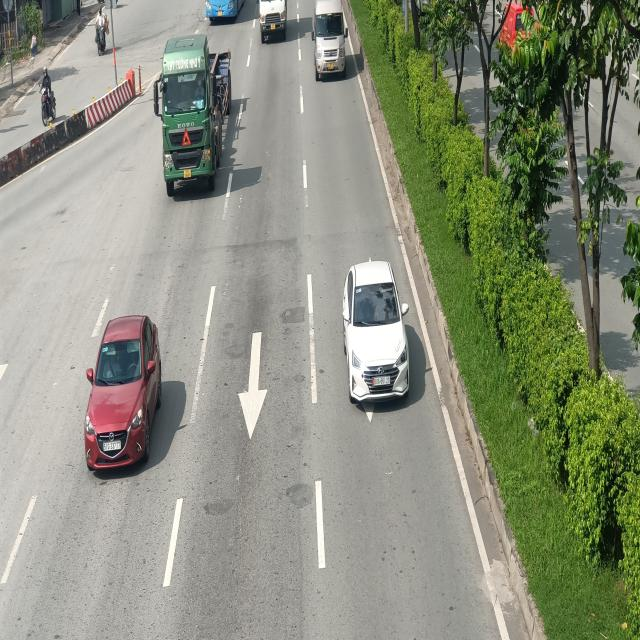car: (85, 314, 164, 472), (342, 259, 414, 402)
container: (153, 35, 232, 199)
van: (312, 0, 347, 80)
